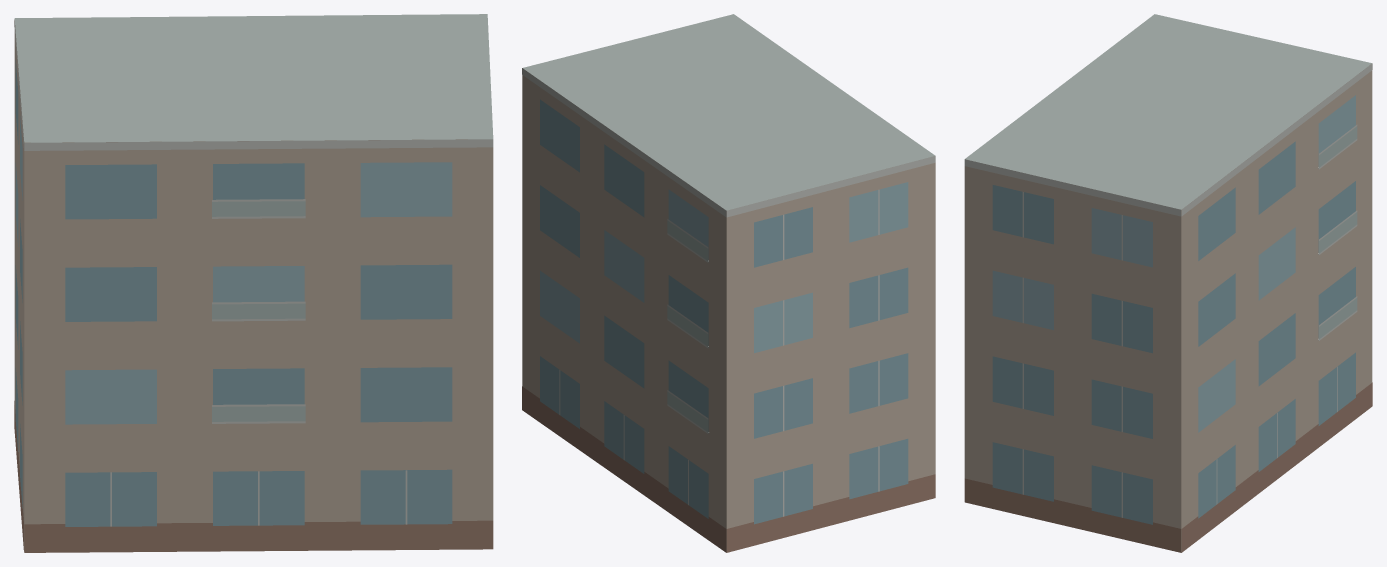
File: survey-upis-32660955.glb
The picture shows the model from 3 angles, left to right: view 1: azimuth 30°, elevation 25°; view 2: azimuth 150°, elevation 25°; view 3: azimuth 270°, elevation 25°; orthographic projection. The views are drawn at different scales.
Visible parts, largest first — view 1: survey-upis-32660955.tmp; view 2: survey-upis-32660955.tmp; view 3: survey-upis-32660955.tmp.
Part boxes in pixels (x1,y1,x2,y2): survey-upis-32660955.tmp: [14, 14, 493, 552]; survey-upis-32660955.tmp: [522, 14, 935, 552]; survey-upis-32660955.tmp: [964, 14, 1372, 552].
Bounding box in the file's own units: 14.93 × 12.2 × 13.15.
